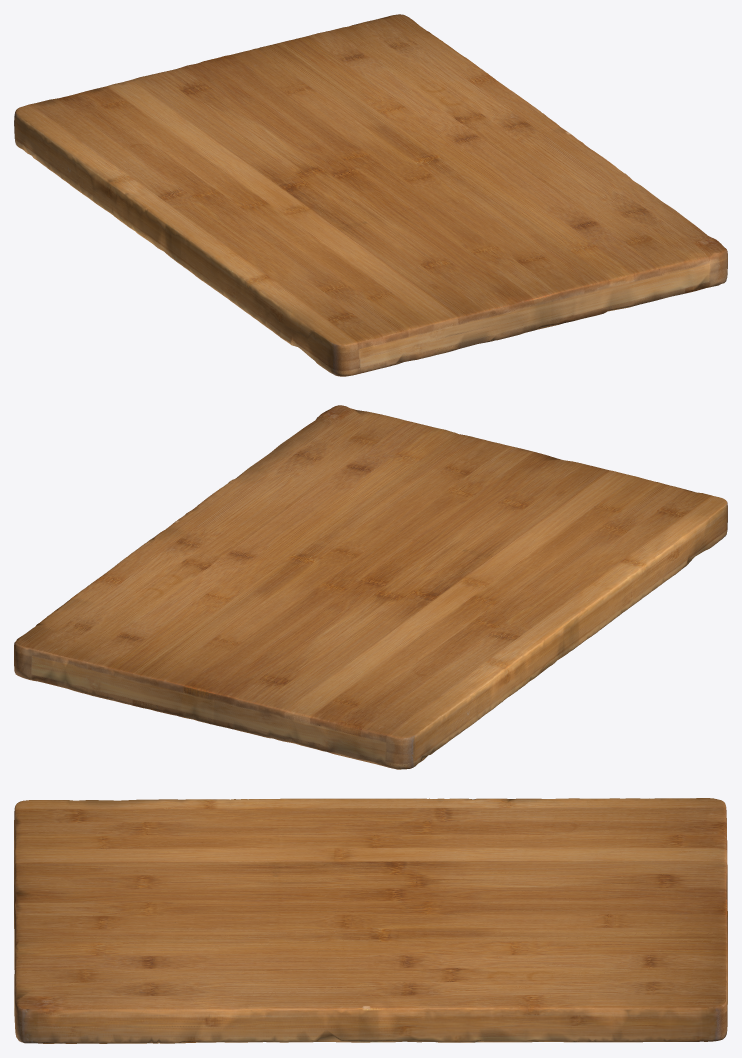
File: SM_Cutting_Board.fbx
The picture shows the model from 3 angles, top to bottom: view 1: azimuth 30°, elevation 25°; view 2: azimuth 150°, elevation 25°; view 3: azimuth 270°, elevation 25°; orthographic projection. The views are drawn at different scales.
Visible parts, largest first — view 1: SM_Cutting_Board_LOD0; view 2: SM_Cutting_Board_LOD0; view 3: SM_Cutting_Board_LOD0.
Part boxes in pixels (x1,y1,x2,y2): SM_Cutting_Board_LOD0: (14, 14, 727, 376); SM_Cutting_Board_LOD0: (14, 405, 727, 769); SM_Cutting_Board_LOD0: (14, 798, 727, 1043).
Bounding box in the file's own units: 36.09 × 51.3 × 3.
Materials: 1 (1 with a texture image).
